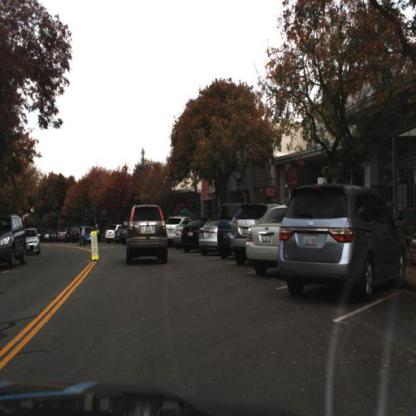car: (276, 181, 409, 308), (230, 199, 280, 265), (245, 202, 286, 280), (124, 204, 170, 268), (1, 214, 28, 266), (217, 201, 237, 259), (181, 219, 206, 253), (198, 217, 218, 255), (165, 216, 186, 247), (174, 220, 189, 249), (25, 228, 41, 255), (80, 227, 99, 245)
